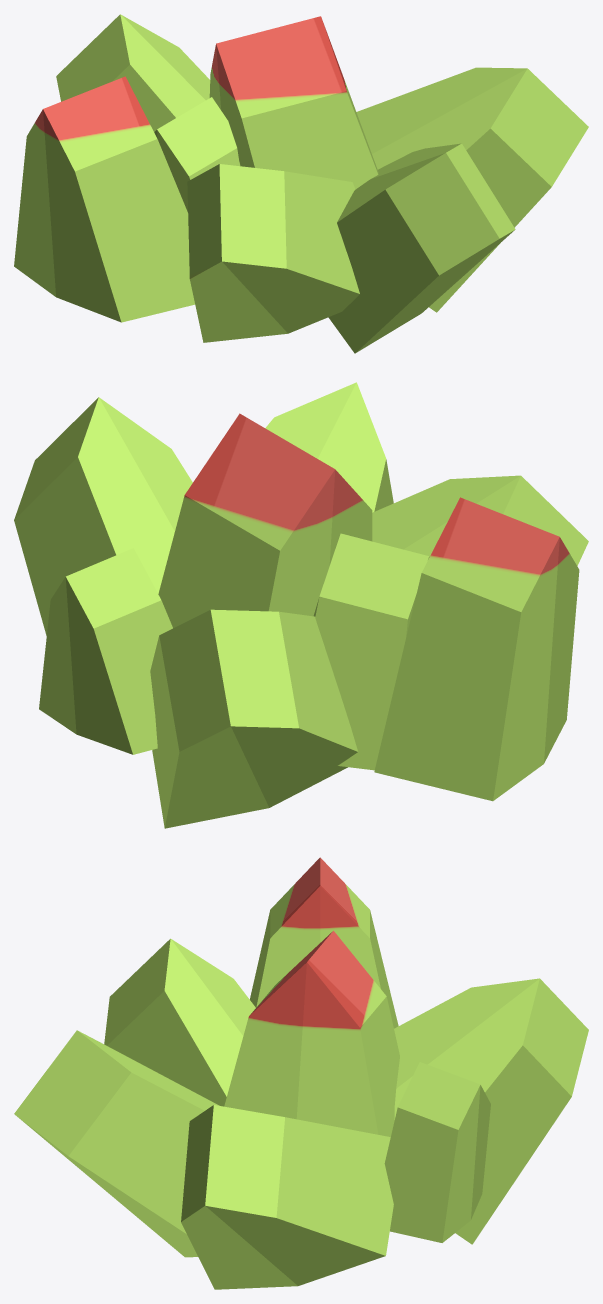
Rendered from rock_22.fbx.
3 views of the same model, one above another, from view 1: azimuth 30°, elevation 25°; view 2: azimuth 150°, elevation 25°; view 3: azimuth 270°, elevation 25° (orthographic). The views are drawn at different scales.
Parts seen in each view (by area): view 1: rock_22; view 2: rock_22; view 3: rock_22.
Boxes of the visible parts, bbox=[...] form: rock_22: bbox=[14, 14, 588, 353]; rock_22: bbox=[14, 382, 588, 828]; rock_22: bbox=[14, 857, 588, 1289].
Size of the model in its own units: 129 by 70.66 by 126.
